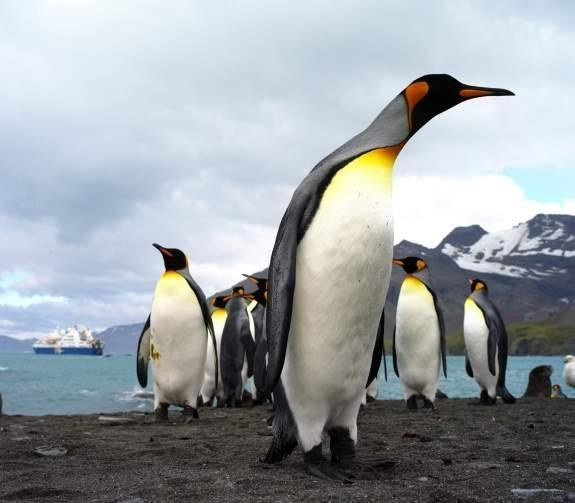Penguin: (268, 72, 516, 466), (137, 244, 213, 418), (393, 256, 446, 409), (464, 280, 515, 404), (220, 286, 254, 407), (242, 273, 270, 402), (198, 296, 229, 406)
